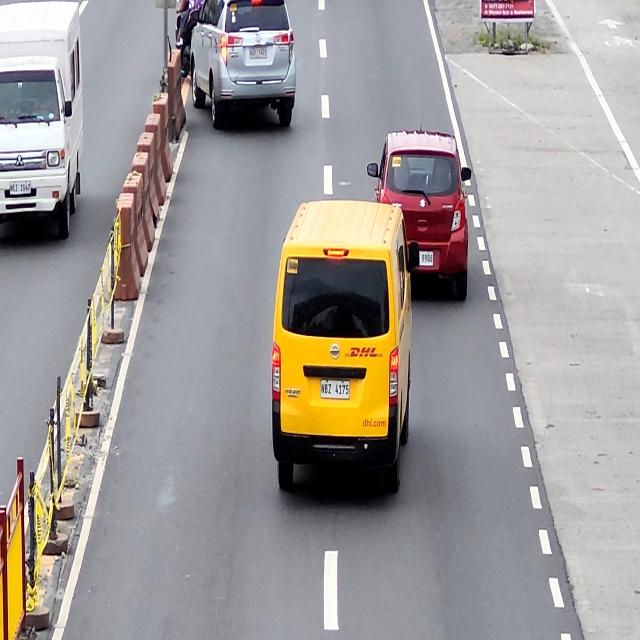Car: (273, 197, 413, 502), (368, 130, 474, 302), (189, 0, 297, 128)
License-Plate: (321, 378, 350, 398), (248, 46, 268, 60), (419, 253, 434, 265)
